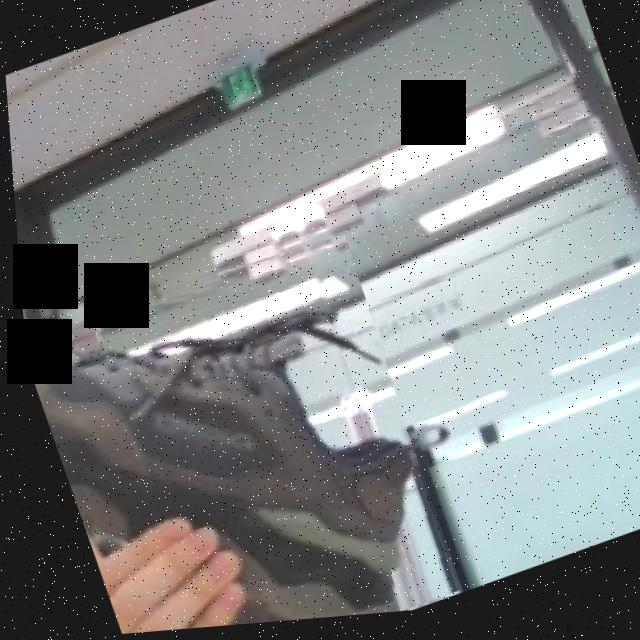shoe: (14, 216, 458, 640)
